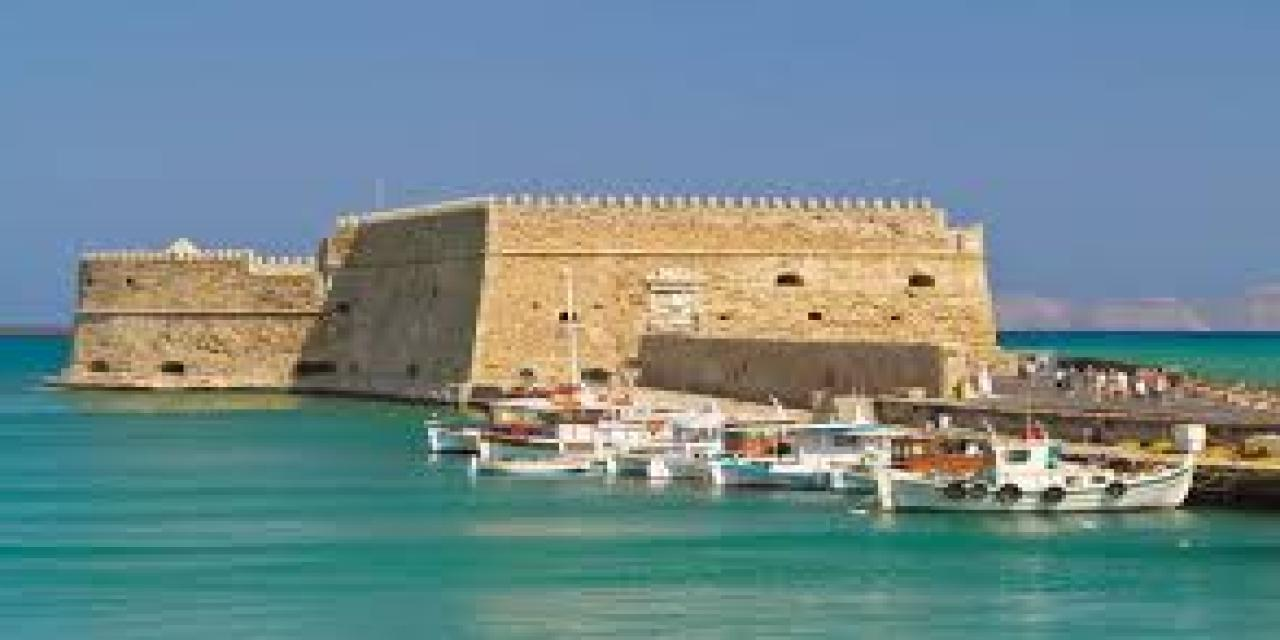Kules: (50, 194, 995, 397)
